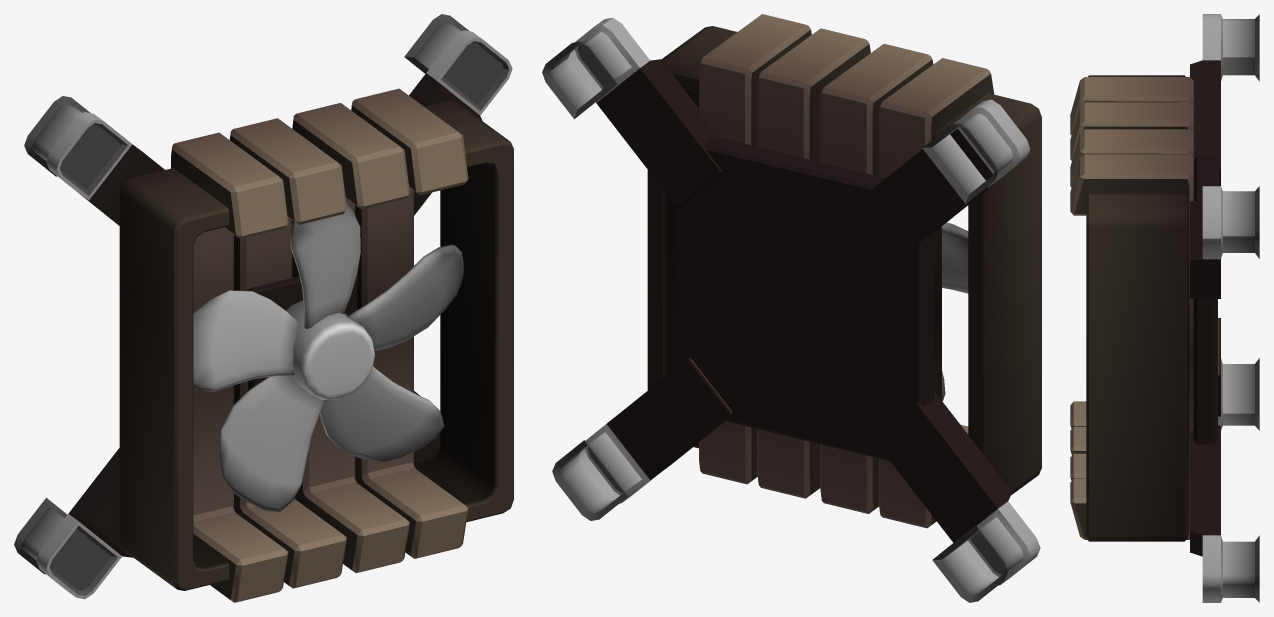
File: Cooling_systems_lvl_02_V06.fbx
3 views of the same model, side by side, from view 1: azimuth 30°, elevation 25°; view 2: azimuth 150°, elevation 25°; view 3: azimuth 270°, elevation 25° (orthographic). The views are drawn at different scales.
Visible parts, largest first — view 1: Body_Cooling, Fan_Cooling; view 2: Body_Cooling, Fan_Cooling; view 3: Body_Cooling.
Boxes of the visible parts, bbox=[...] form: Body_Cooling: bbox=[14, 14, 513, 602]; Fan_Cooling: bbox=[193, 203, 463, 511]; Body_Cooling: bbox=[542, 14, 1041, 602]; Fan_Cooling: bbox=[942, 222, 968, 401]; Body_Cooling: bbox=[1070, 14, 1259, 602].
Bounding box in the file's own units: 46.9 × 46.9 × 18.74.
